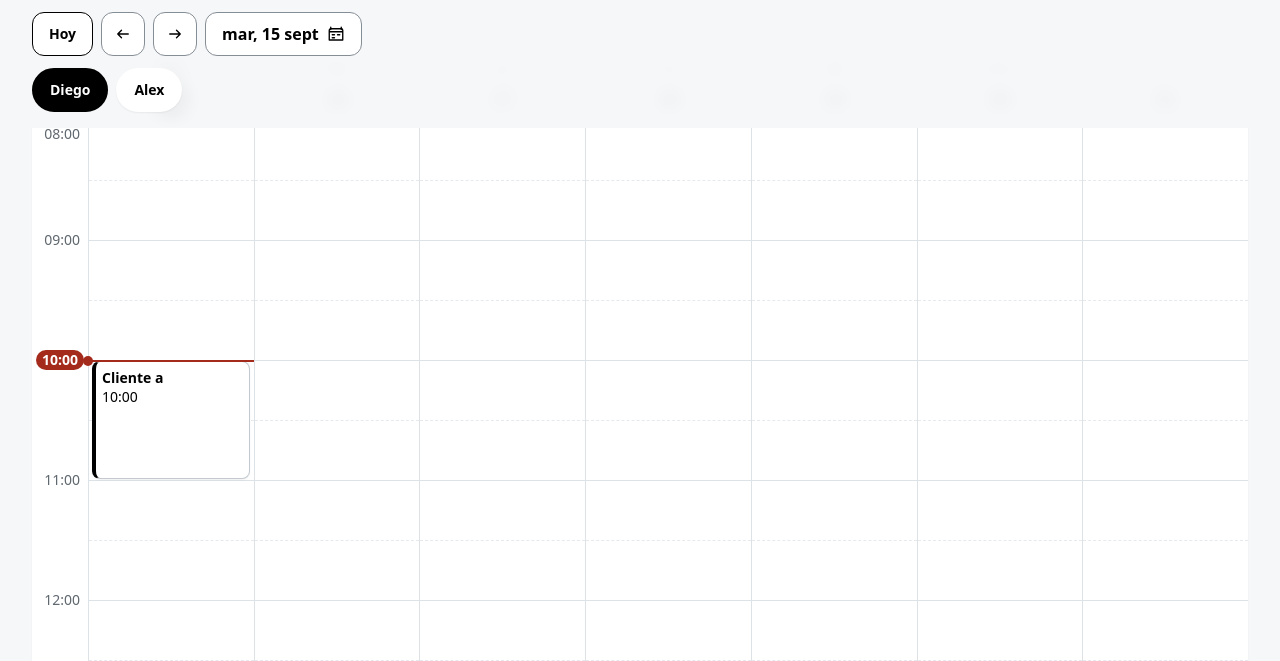
Test: AgendaPage › limits the phone week to the barber chosen in the chips
(page scrolled)
Expected: the button "Cliente a 10:00" is shown, x1=92 y1=361 x2=250 y2=479
Expected: the button "Cliente b" is not shown
Step 1. Click the button "Alex" → (149, 90), box x1=116 y1=68 x2=182 y2=112
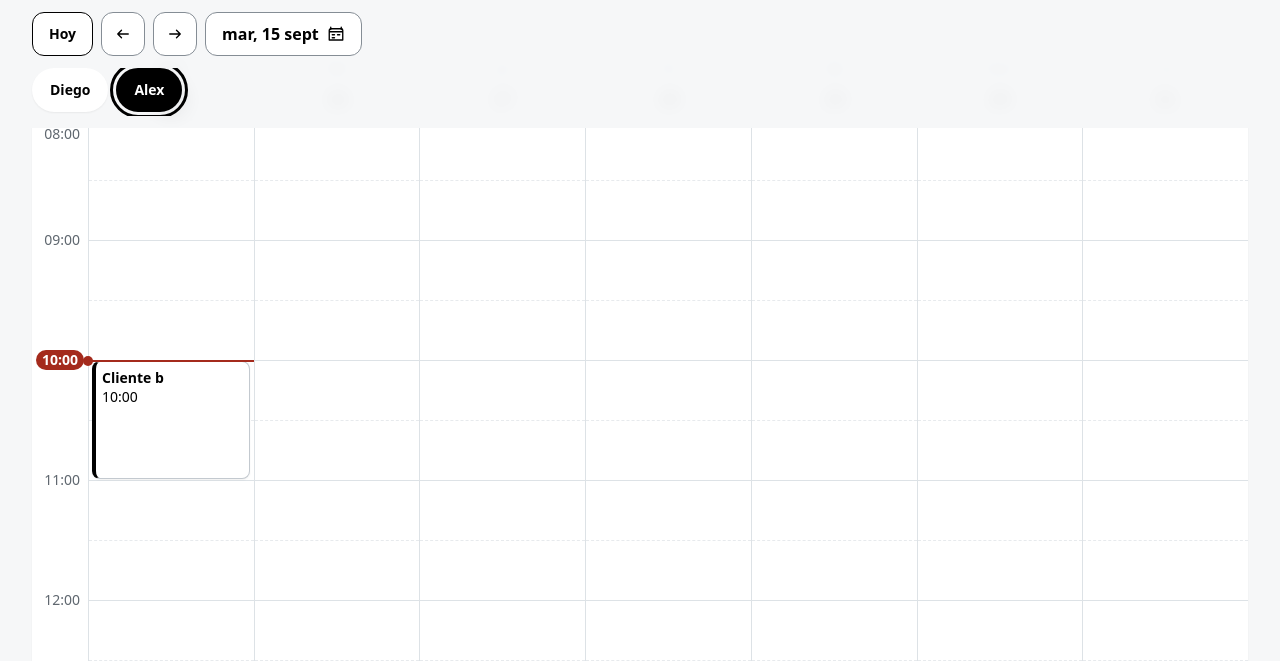
Now the button "Cliente b 10:00" is shown, box x1=92 y1=361 x2=250 y2=479
Now the button "Cliente a" is gone
